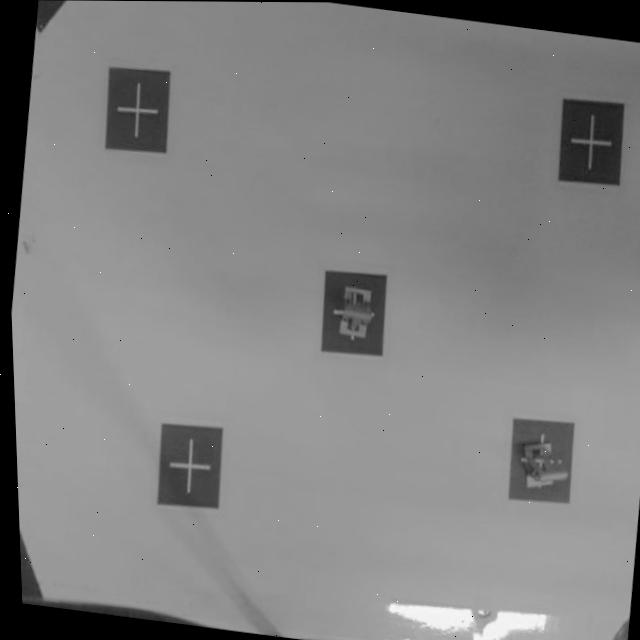pick1: (503, 417, 577, 503)
pick3: (314, 266, 390, 357)
